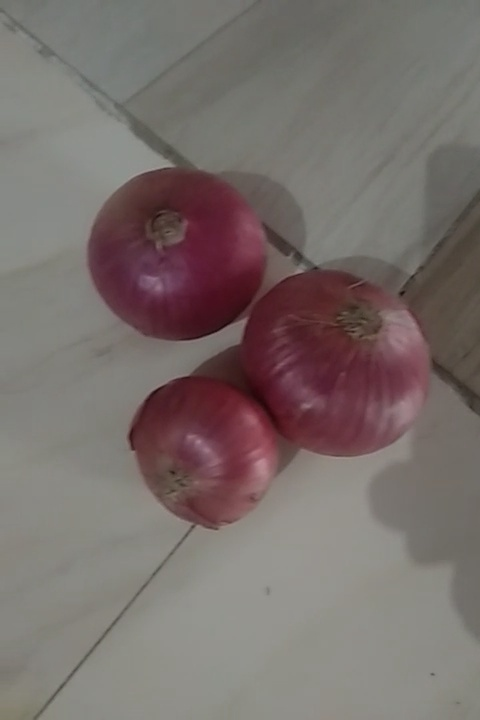onion: (248, 267, 413, 461), (82, 172, 263, 335), (119, 377, 286, 520)
